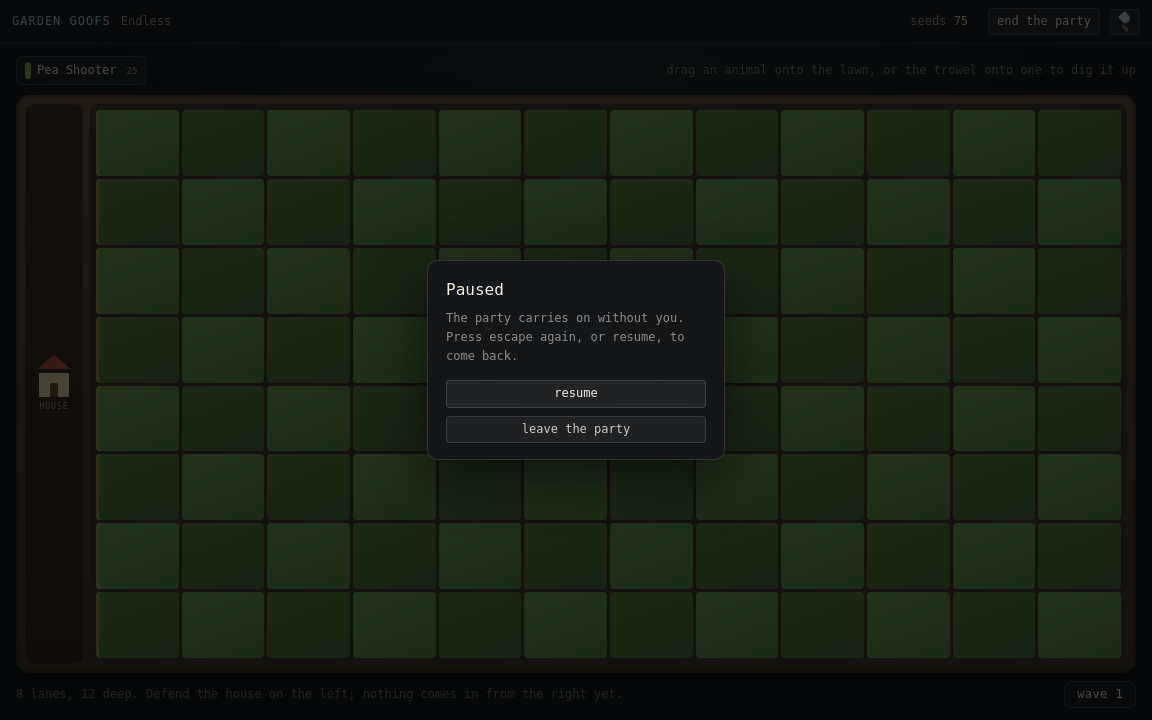
Test case: playing a round of Garden Goofs › resumes from the pause card without needing the key again
Click the button "resume" at (576, 394), box left=446, top=380, right=706, bottom=408
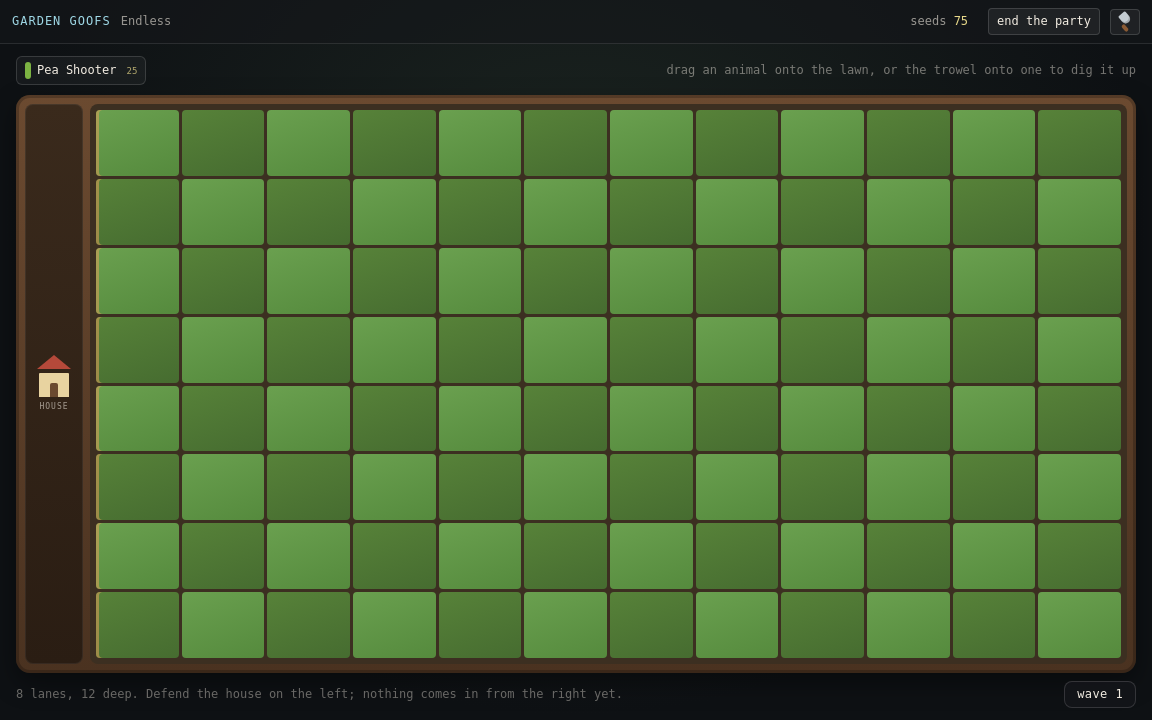
Expected: the text "Paused" is gone
